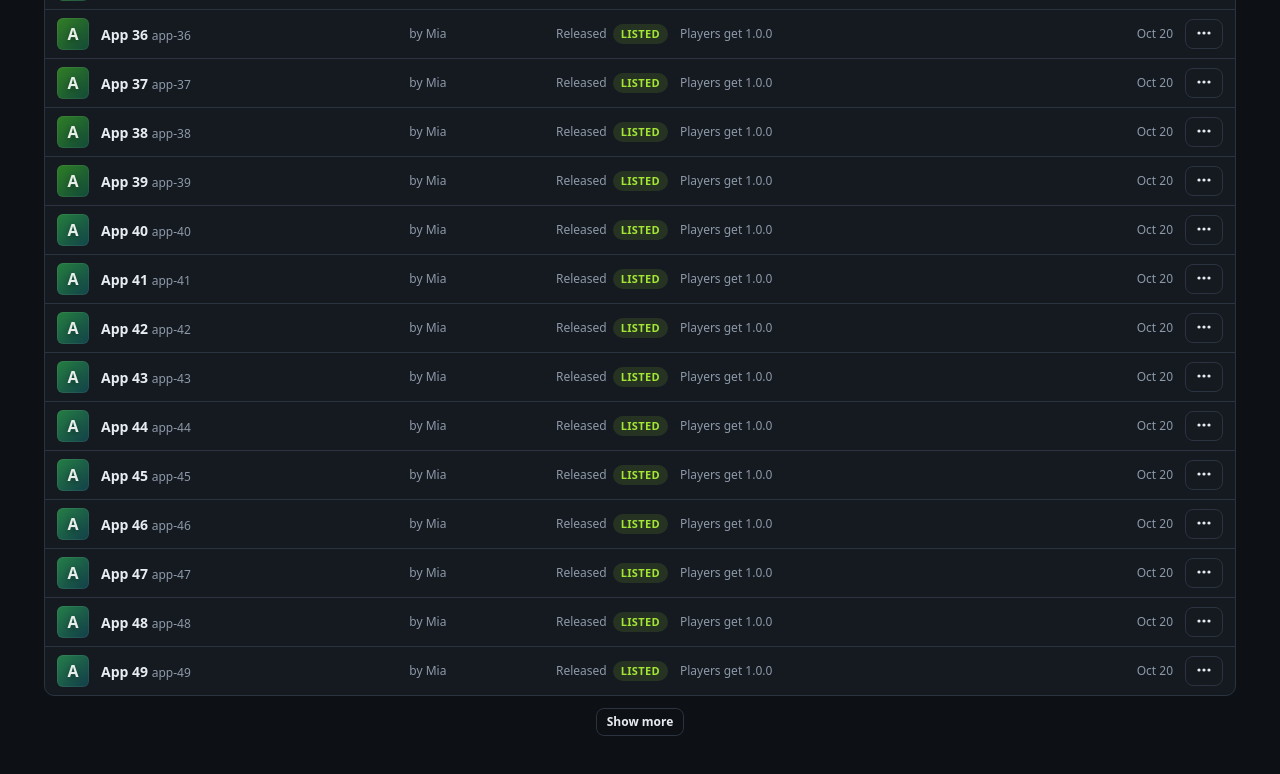
Test case: the admin panel › lists apps a page at a time, and asks for only those needing attention, most urgent first
The width and height of the screenshot is (1280, 774).
(page scrolled)
# A full page: there may be more.
Click the button "Show more" at (640, 722), box left=596, top=708, right=684, bottom=736
(page scrolled)
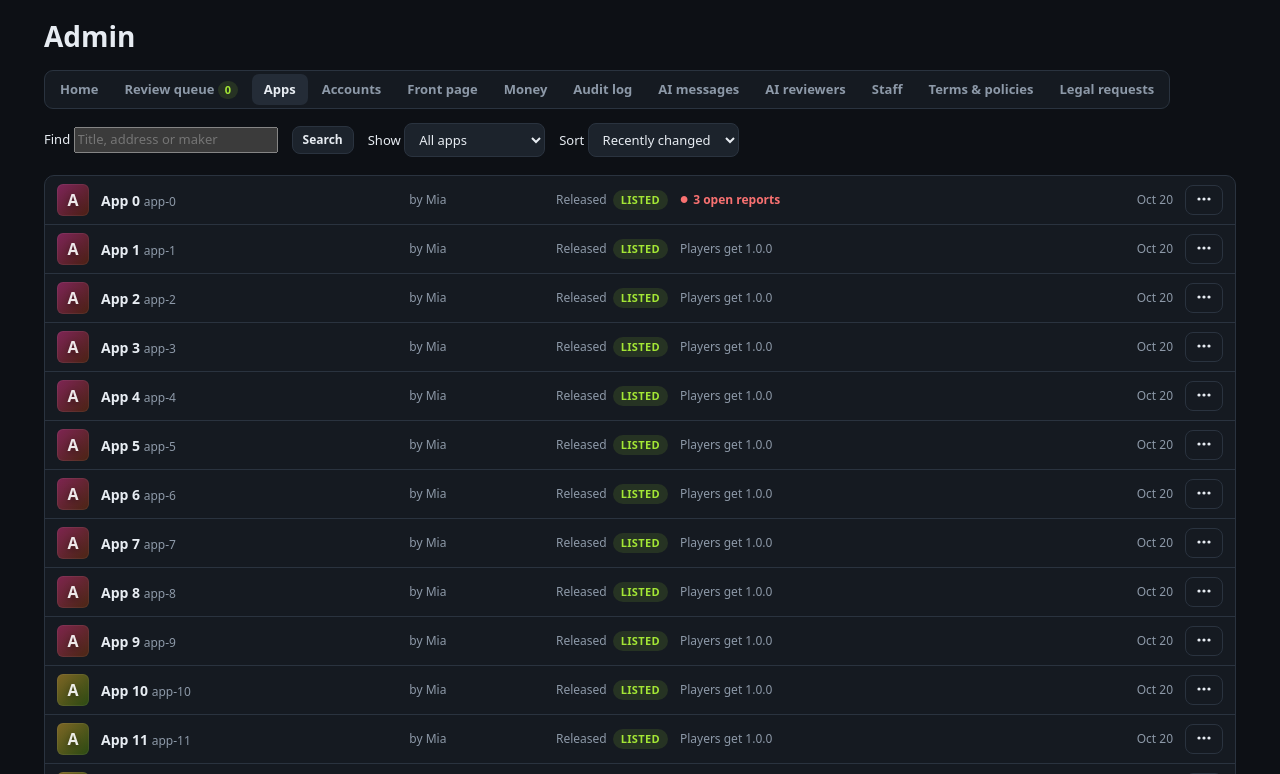
Check: the number of list items is 52
Check: the button "Show more" is gone
# Needing attention starts again from one page, most urgent first.
Select "Needs attention" in the dropdown labelled "Show" at (475, 140), box left=404, top=123, right=545, bottom=157
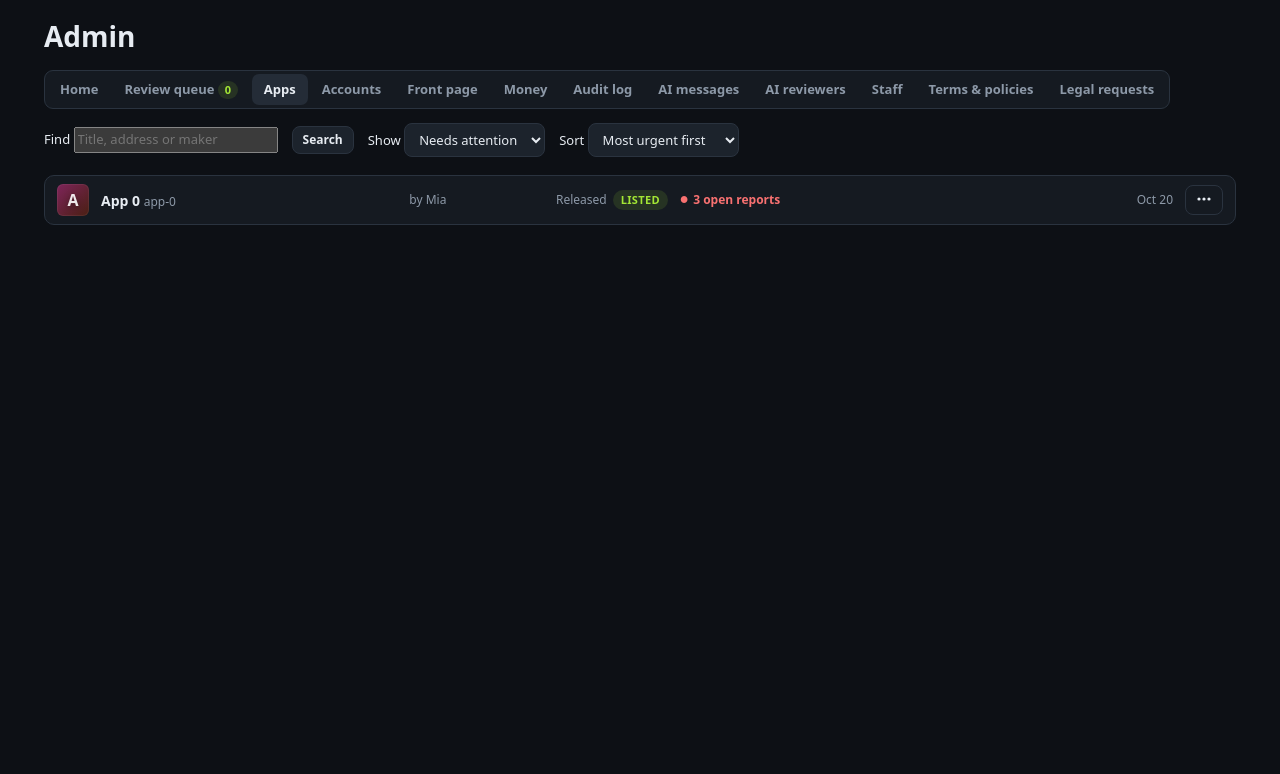
Check: the number of list items is 1, box left=45, top=176, right=1235, bottom=224
Check: the dropdown labelled "Sort" shows "Most urgent first", box left=588, top=123, right=739, bottom=157
